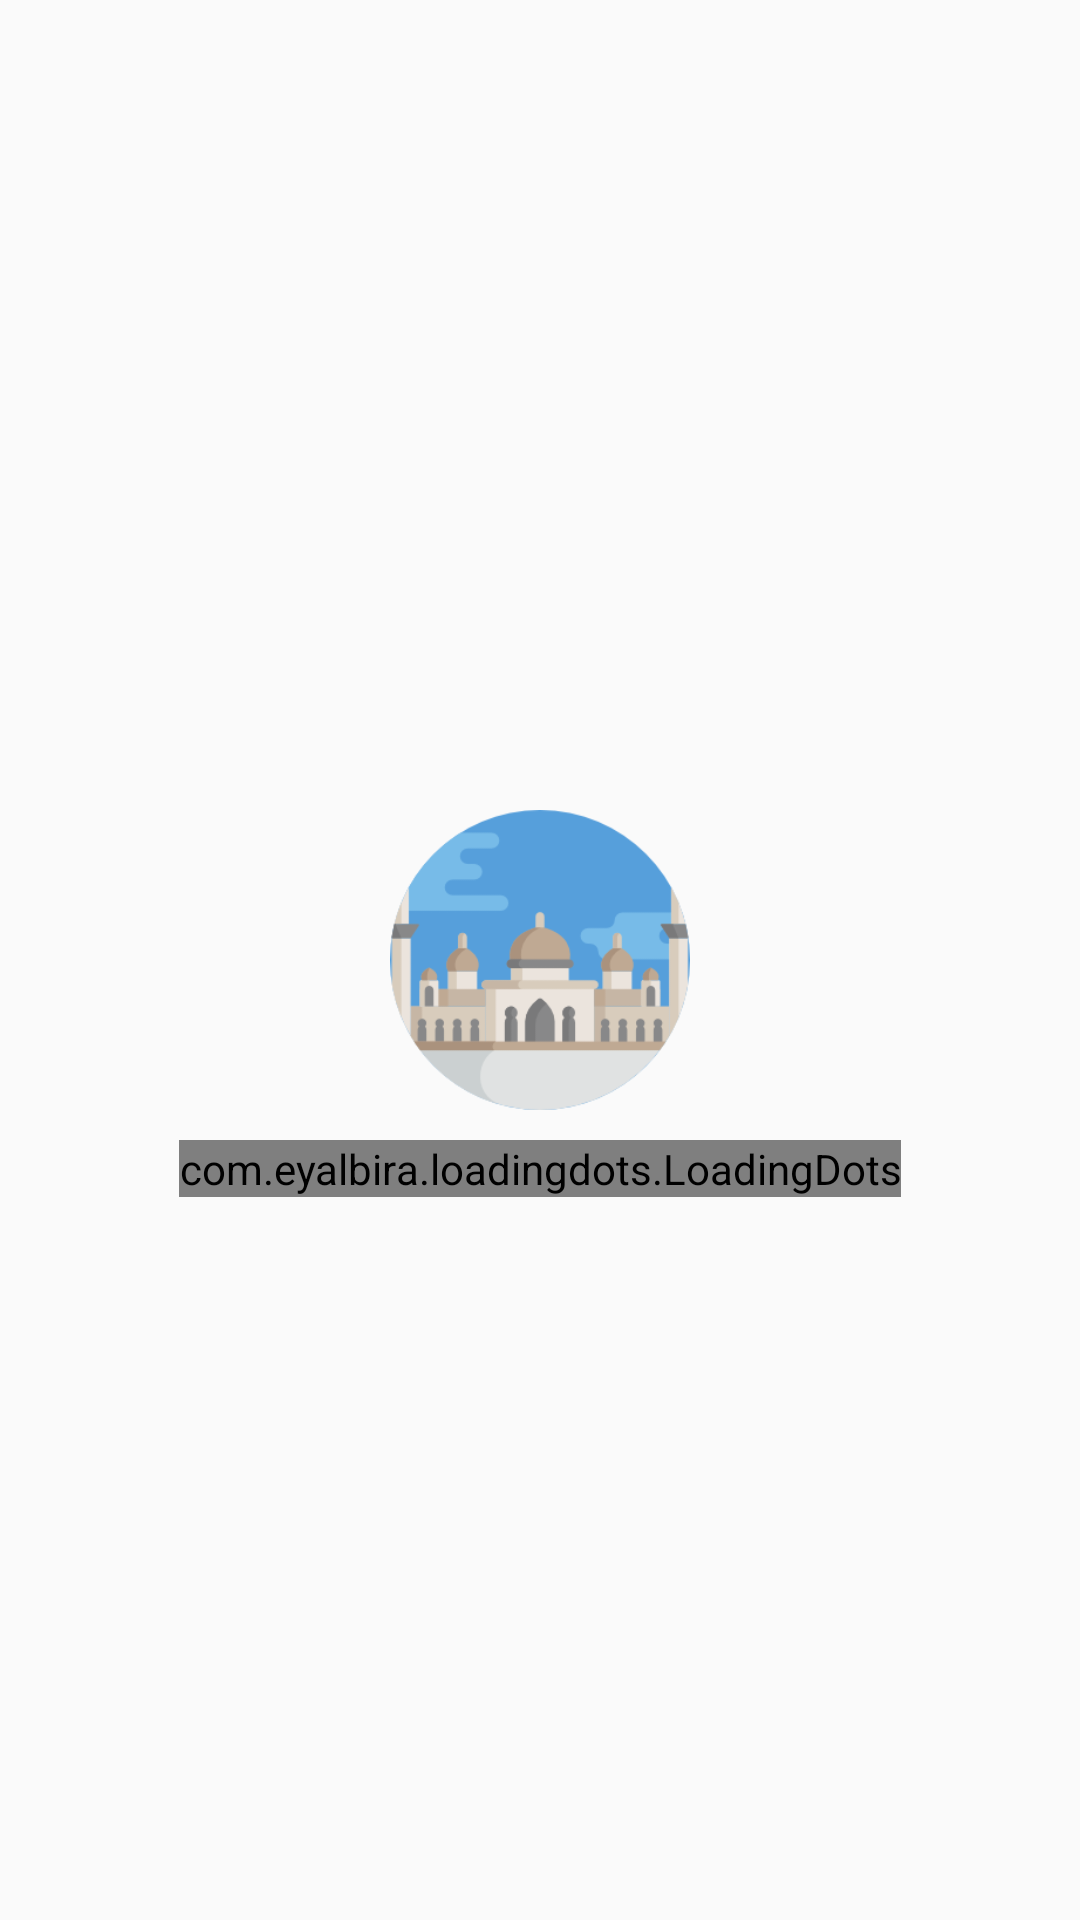

Screen size 1080px×1920px. Icon name, then its box in pixels as detection(x1, y1, x2, y2):
mosque: detection(390, 810, 690, 1110)
